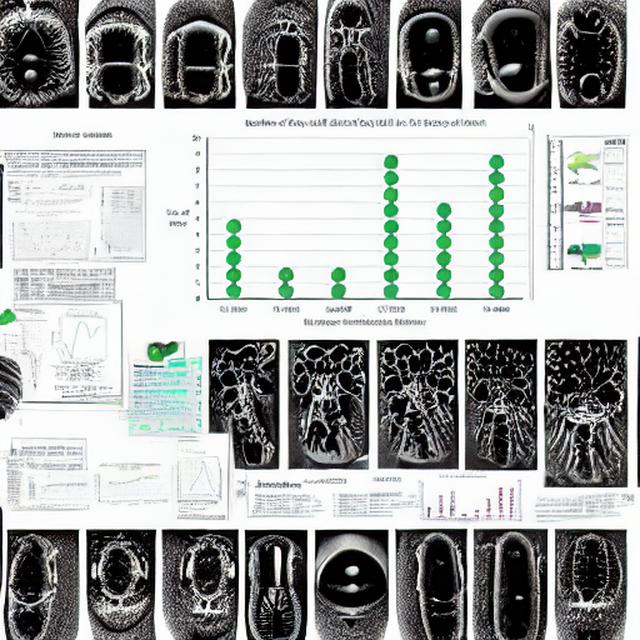Graph: (155, 110, 527, 336), (405, 474, 507, 527), (3, 209, 93, 267), (47, 311, 118, 364), (90, 463, 170, 510)
